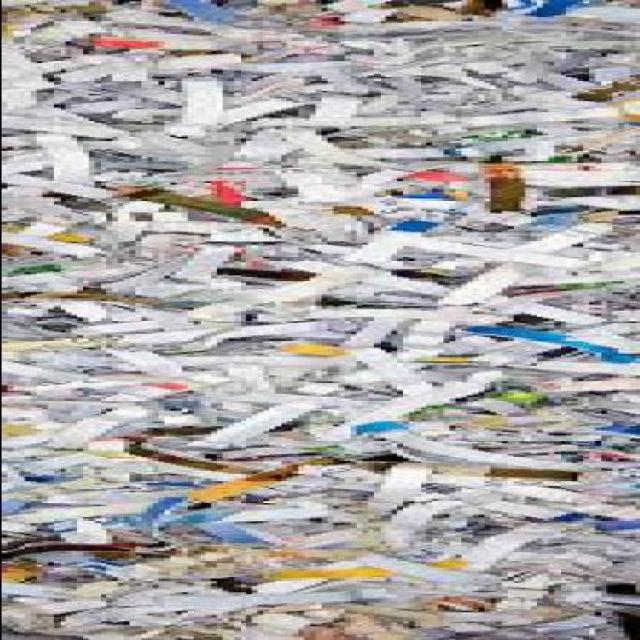PAPER: (1, 0, 635, 638)
